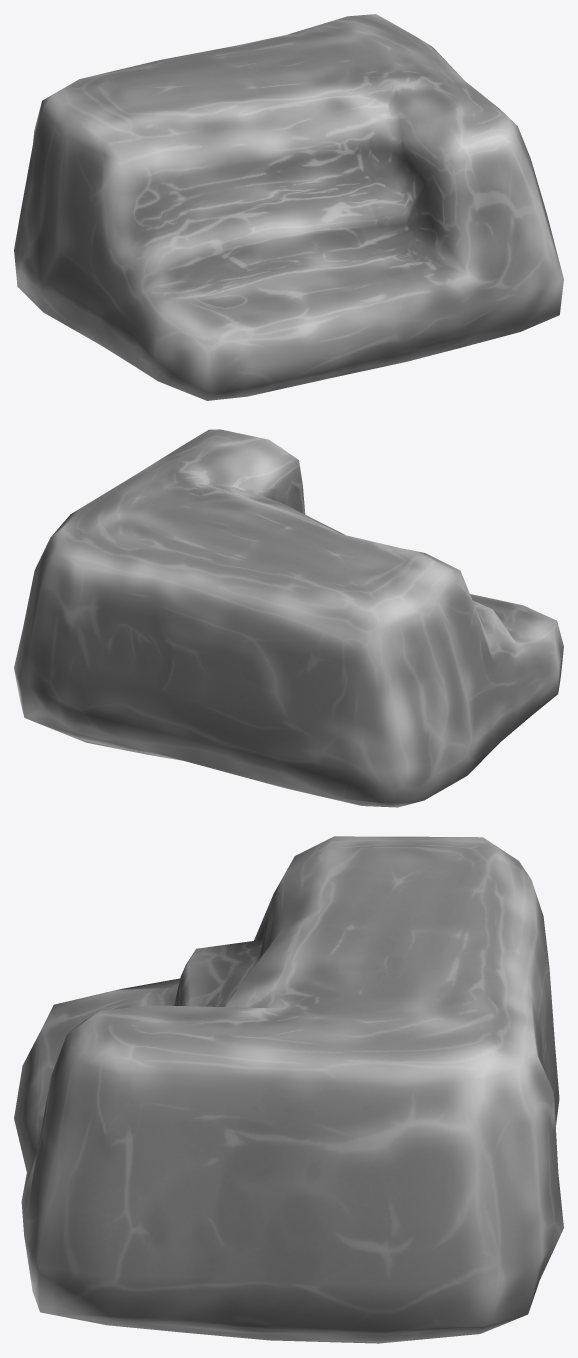
File: roca4.fbx
3 views of the same model, one above another, from view 1: azimuth 30°, elevation 25°; view 2: azimuth 150°, elevation 25°; view 3: azimuth 270°, elevation 25° (orthographic). The views are drawn at different scales.
Visible parts, largest first — view 1: roca4; view 2: roca4; view 3: roca4.
Boxes of the visible parts, x1,y1,x2,y2 form: roca4: [14, 14, 563, 400]; roca4: [14, 429, 563, 807]; roca4: [14, 836, 563, 1343].
Bounding box in the file's own units: 13.28 × 6.91 × 10.96.
